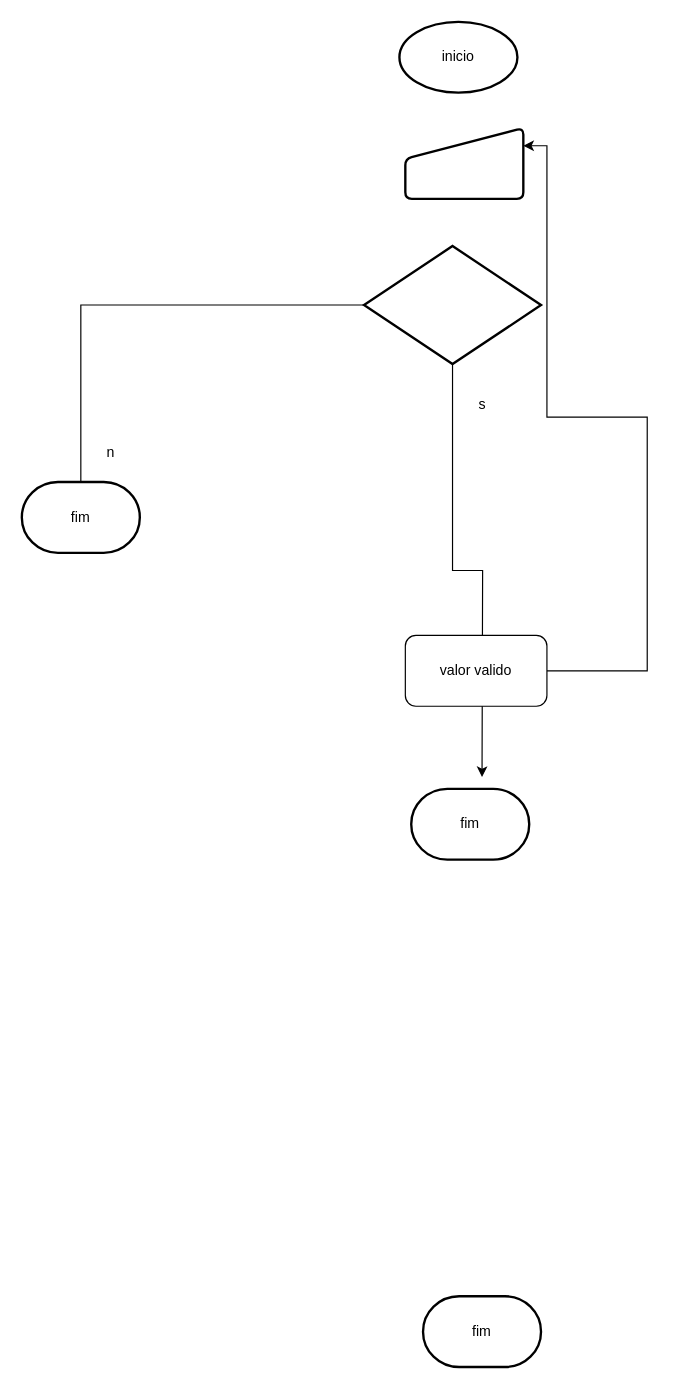
This 677x1388 diagram has some shape labels left out. Here are the shapes that lost their labels. From the top down, the centre of each, then its label:
(464,162): valor
(452,304): valor>0
